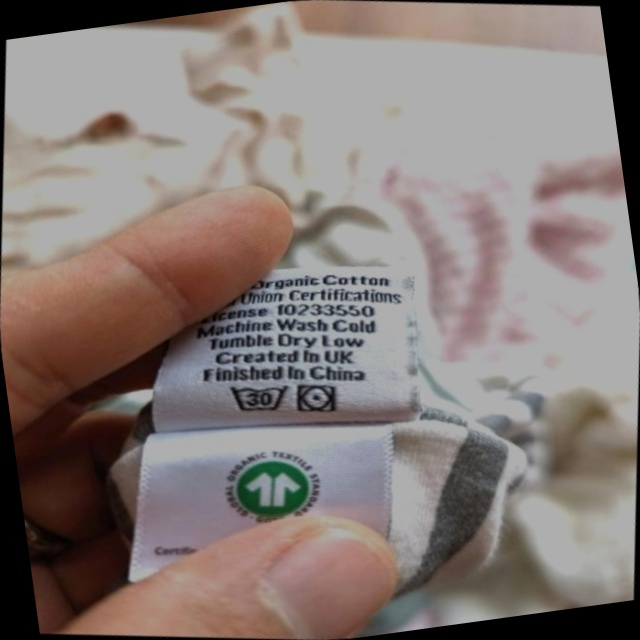30C: (219, 368, 298, 427)
tumble_dry_low: (288, 373, 346, 425)
